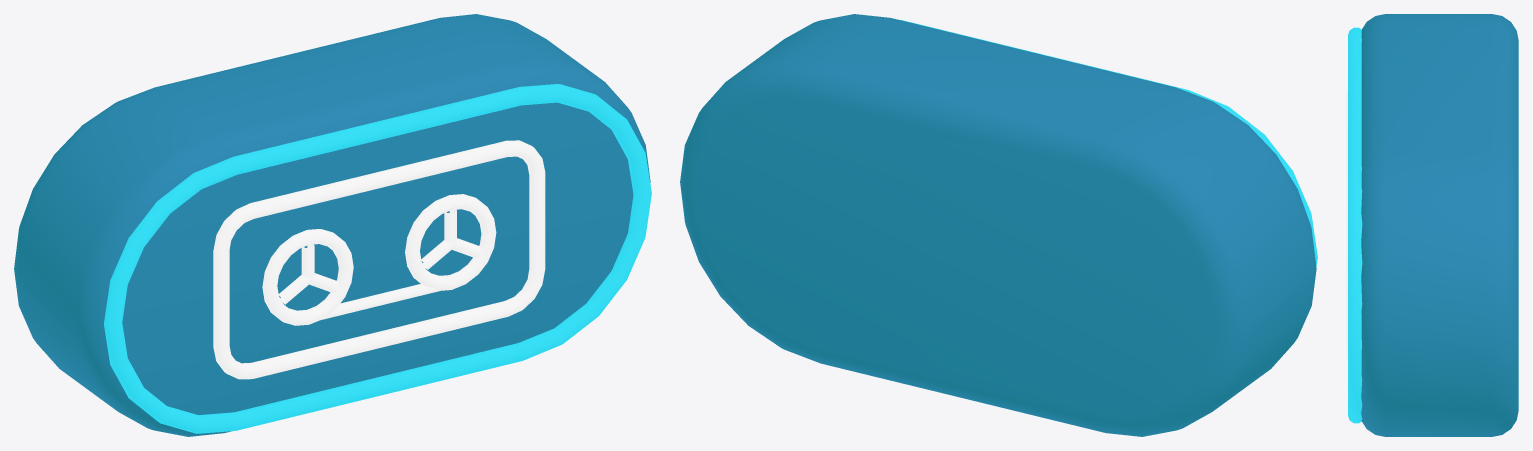
File: capsule_saktetid.glb
The picture shows the model from 3 angles, left to right: view 1: azimuth 30°, elevation 25°; view 2: azimuth 150°, elevation 25°; view 3: azimuth 270°, elevation 25°; orthographic projection. The views are drawn at different scales.
Parts seen in each view (by area): view 1: capsule_saktetid; view 2: capsule_saktetid; view 3: capsule_saktetid.
Part boxes in pixels (x1,y1,x2,y2): capsule_saktetid: (14,14,651,436); capsule_saktetid: (680,14,1317,436); capsule_saktetid: (1346,14,1518,436).
Bounding box in the file's own units: 1.12 × 0.56 × 0.324.
